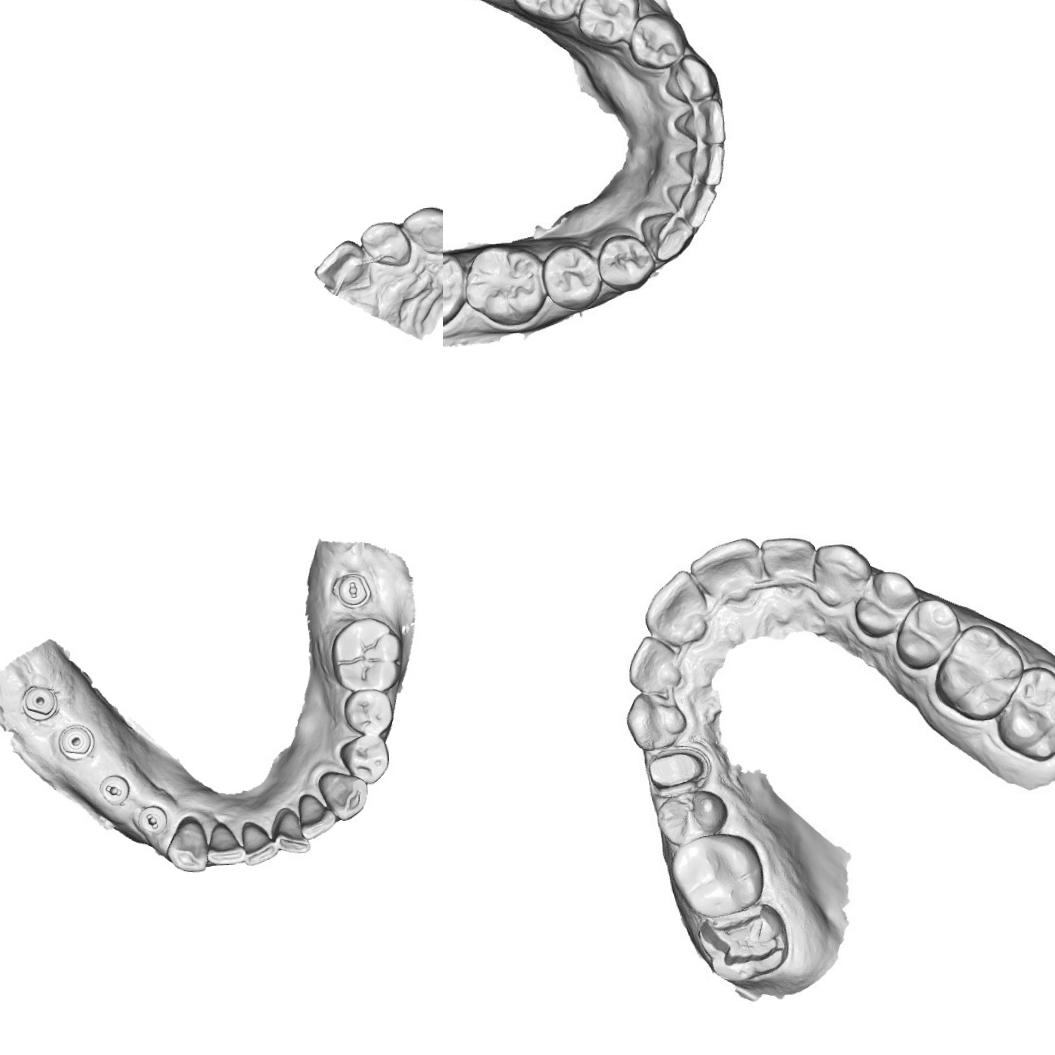canine: (810, 538, 874, 610), (623, 692, 688, 752), (637, 212, 698, 264), (314, 768, 370, 822), (662, 52, 718, 105), (163, 816, 209, 876), (400, 204, 443, 257)
crown: (644, 741, 708, 793)
implant: (19, 682, 60, 723), (56, 722, 96, 762)
implant_minus: (334, 571, 374, 609), (132, 802, 168, 835), (98, 773, 130, 806)
incisor: (640, 566, 710, 650), (686, 534, 764, 604), (623, 631, 689, 698), (310, 236, 370, 294), (758, 534, 816, 591), (664, 178, 720, 230), (670, 100, 728, 150), (672, 140, 729, 190), (358, 218, 412, 268), (294, 790, 338, 842), (204, 818, 246, 868), (272, 808, 312, 856), (240, 818, 279, 866)
inlay: (694, 903, 788, 970)
molar: (930, 619, 1034, 725), (666, 830, 766, 921), (462, 242, 543, 328), (991, 661, 1055, 764), (328, 614, 406, 694), (503, 0, 591, 23), (443, 245, 466, 333)
premolar: (891, 596, 961, 673), (850, 568, 921, 640), (652, 786, 730, 846), (540, 240, 604, 311), (594, 230, 656, 292), (627, 11, 686, 70), (573, 0, 642, 49), (336, 732, 392, 786), (340, 686, 395, 736)
